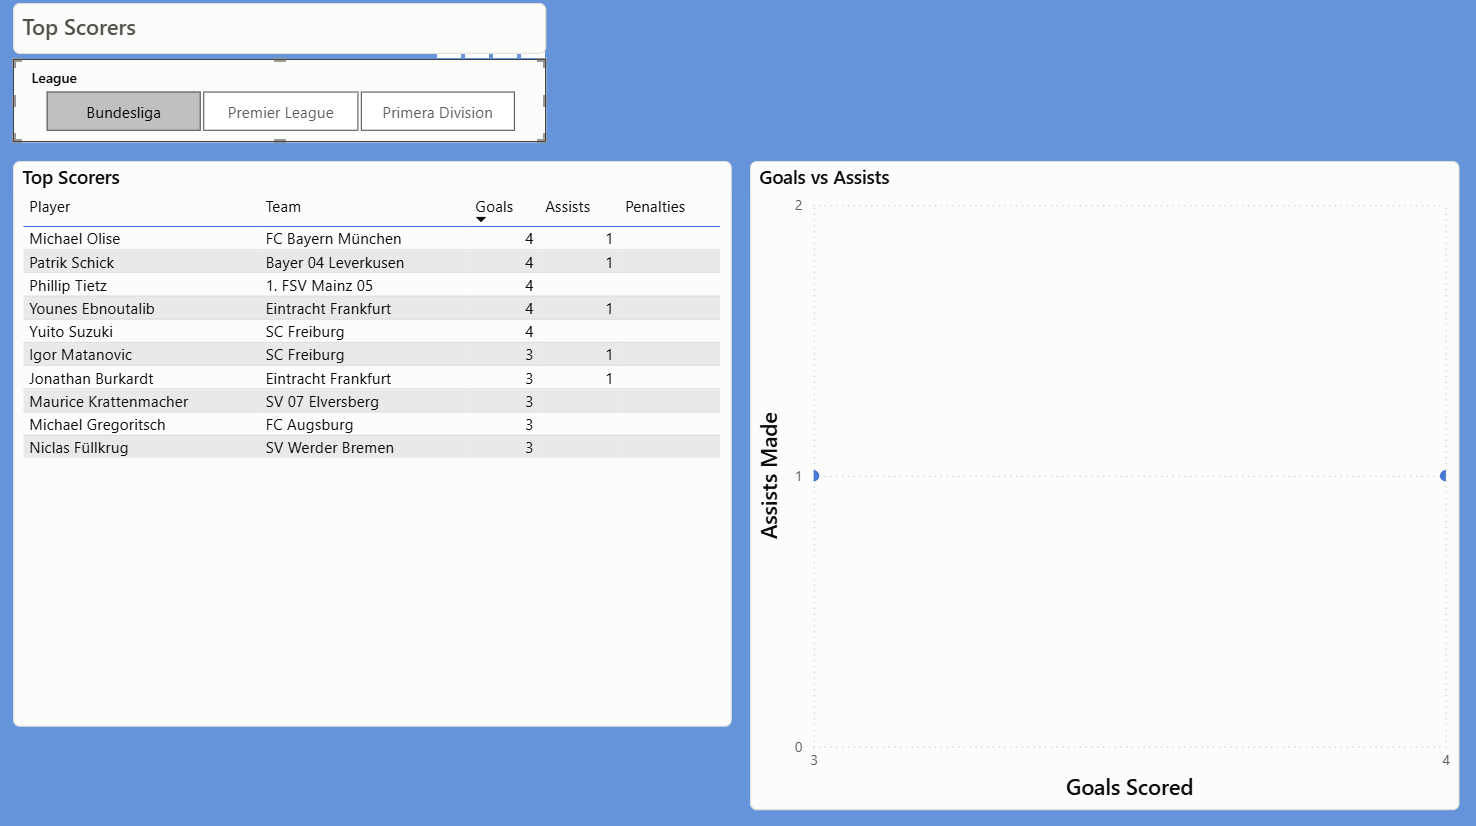

The dashboard page shown, as its layout file describes it:
{"tool":"powerbi","page":{"name":"Top Scorers","canvas":[1280,720],"ordinal":1},"visuals":[{"type":"slicer","fields":{"Values":["public dim_scorers.League"]},"box":[16,56,460,72],"z":0},{"type":"tableEx","title":"Top Scorers","fields":{"Values":["public dim_scorers.Player","public dim_scorers.Team","public dim_scorers.Goals","public dim_scorers.Assists","public dim_scorers.Penalties"]},"box":[16,144,620,488],"z":1},{"type":"scatterChart","title":"Goals vs Assists","fields":{"Category":["public dim_scorers.Player"],"X":["public dim_scorers.Goals Scored"],"Y":["public dim_scorers.Assists Made"]},"box":[652,144,612,560],"z":2},{"type":"textbox","box":[16,8,460,44],"z":3}]}

Visuals, with their boxes on the page's 1280x720 design canvas (x1, y1, x2, y2). These are canvas units, not pixel positions in the 1476x826 screenshot, which may show the page scaled, cropped or inside an application window:
slicer - public dim_scorers.League: box(16, 56, 476, 128)
"Top Scorers" tableEx: box(16, 144, 636, 632)
"Goals vs Assists" scatterChart: box(652, 144, 1264, 704)
textbox: box(16, 8, 476, 52)
